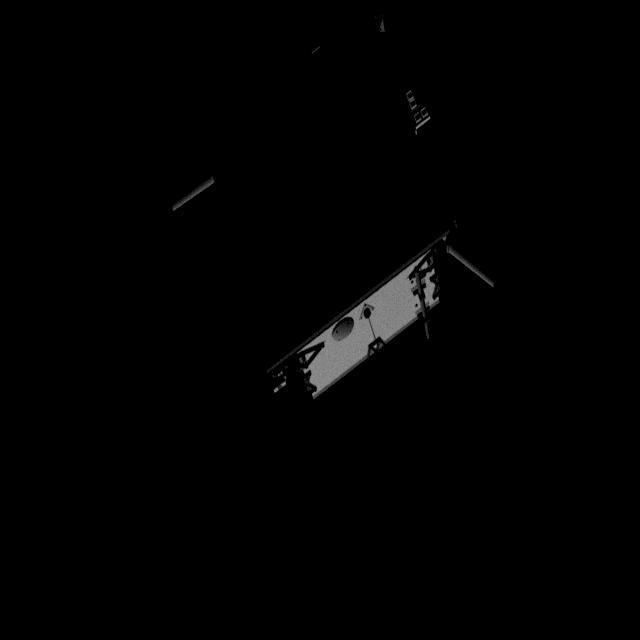medium_debris: (160, 2, 506, 402)
